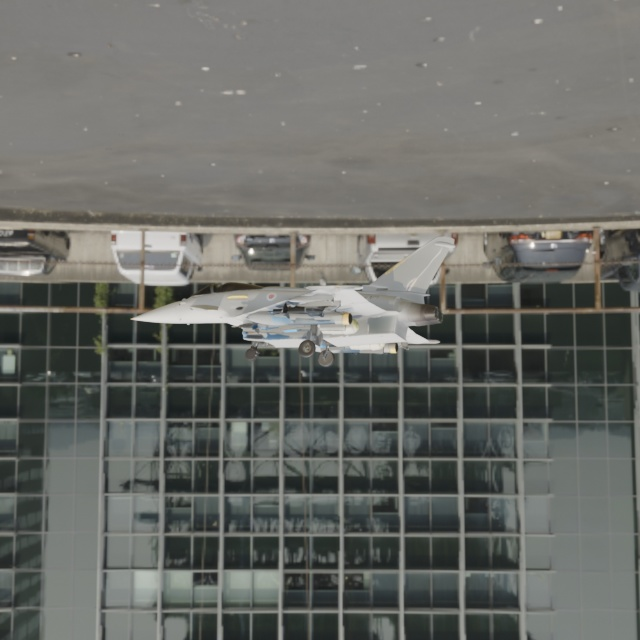eurofighter_typhoon_3d: (60, 197, 488, 387)
